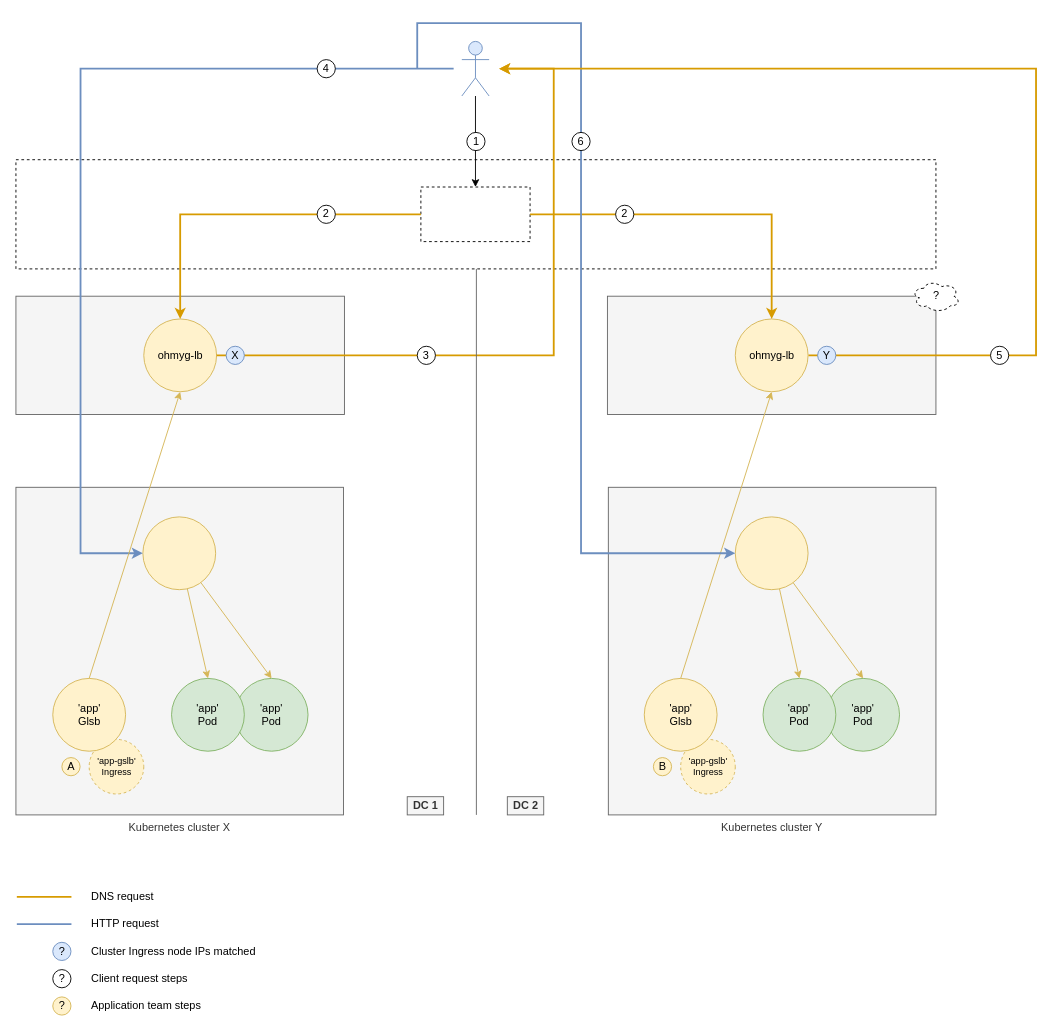
This 1060x1031 diagram has some shape labels left out. Each missing label, with the centre of its shape:
"DNS Recursive Resolver" belongs at point 475,214.
"Ingress Contrioller X" belongs at point 179,553.
"Ingress Contrioller Y" belongs at point 771,553.
